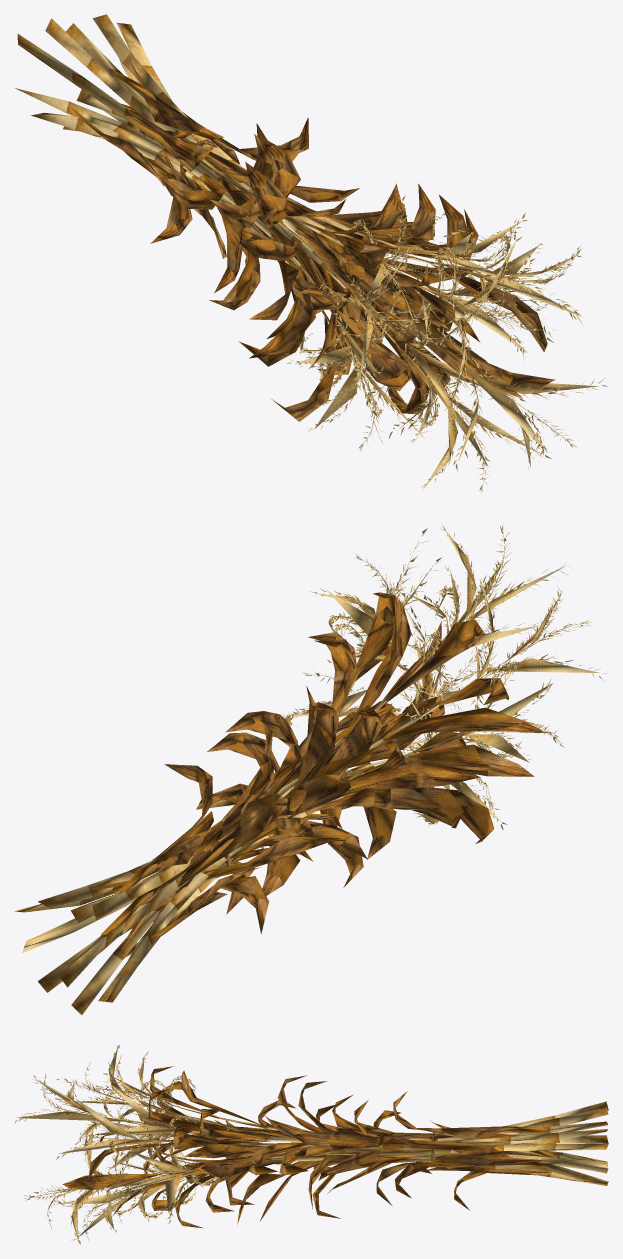
Rendered from corn_5p.obj.
3 views of the same model, one above another, from view 1: azimuth 30°, elevation 25°; view 2: azimuth 150°, elevation 25°; view 3: azimuth 270°, elevation 25° (orthographic). The views are drawn at different scales.
Visible parts, largest first — view 1: 11557_Stalks_of_Corn_V2_L2; view 2: 11557_Stalks_of_Corn_V2_L2; view 3: 11557_Stalks_of_Corn_V2_L2.
Boxes of the visible parts, bbox=[...] form: 11557_Stalks_of_Corn_V2_L2: bbox=[15, 14, 607, 491]; 11557_Stalks_of_Corn_V2_L2: bbox=[15, 523, 605, 1014]; 11557_Stalks_of_Corn_V2_L2: bbox=[14, 1045, 608, 1244].
Bounding box in the file's own units: 0.7541 × 0.7187 × 2.13.
3 materials, 3 textured.
